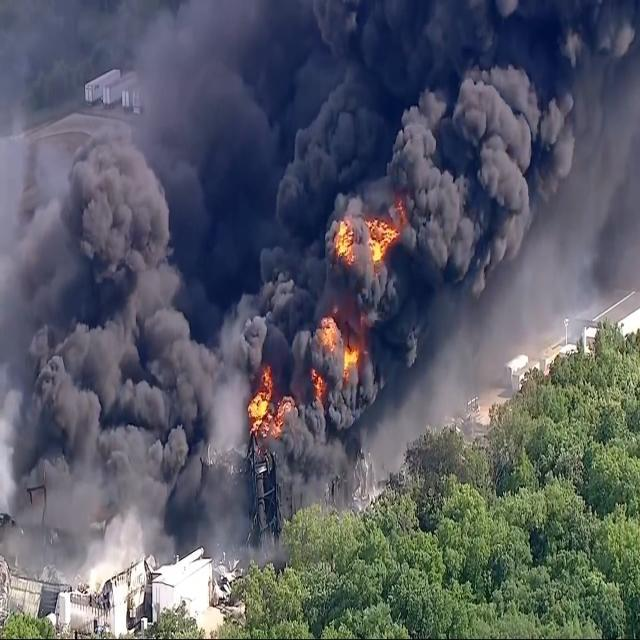Fire: (246, 315, 362, 453), (327, 192, 412, 270)
Smoke: (221, 0, 640, 487), (0, 135, 227, 533), (143, 0, 309, 338)
